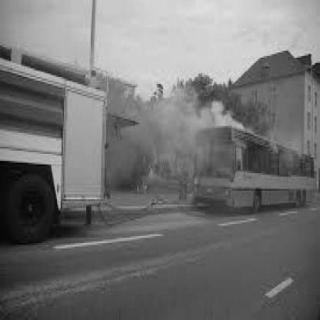Smoke: (96, 68, 252, 202)
